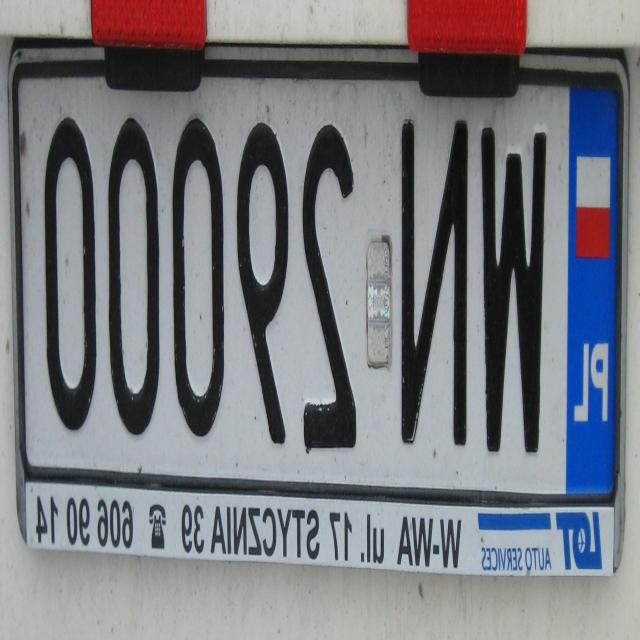pl_license_plate: (21, 82, 618, 496)
